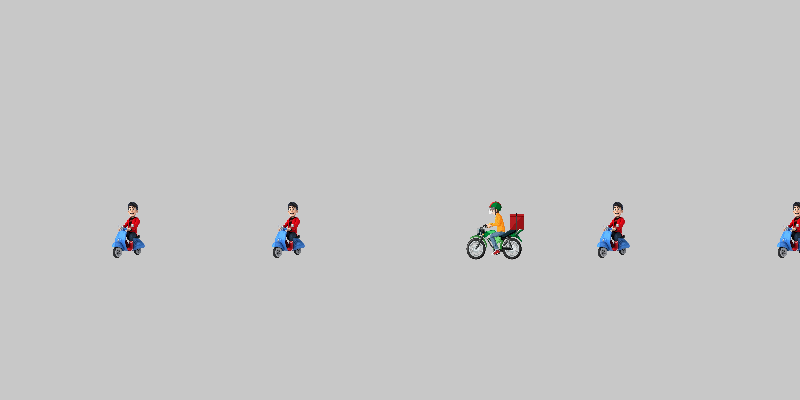helmet: (465, 200, 525, 260)
no_helmet: (100, 200, 160, 260), (260, 200, 320, 260), (585, 200, 645, 260), (765, 200, 800, 260)
